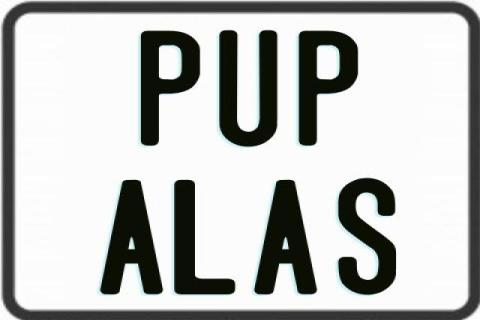A: (98, 180, 165, 296), (253, 178, 316, 292)
L: (171, 180, 234, 296)
P: (297, 28, 360, 147), (139, 30, 201, 150)
S: (336, 175, 397, 293)
U: (219, 28, 277, 149)
